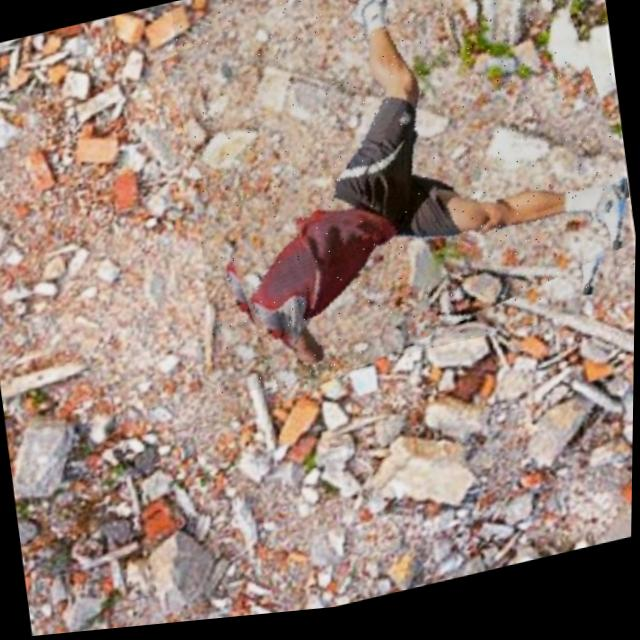Person in Rubble: (165, 0, 640, 406)
